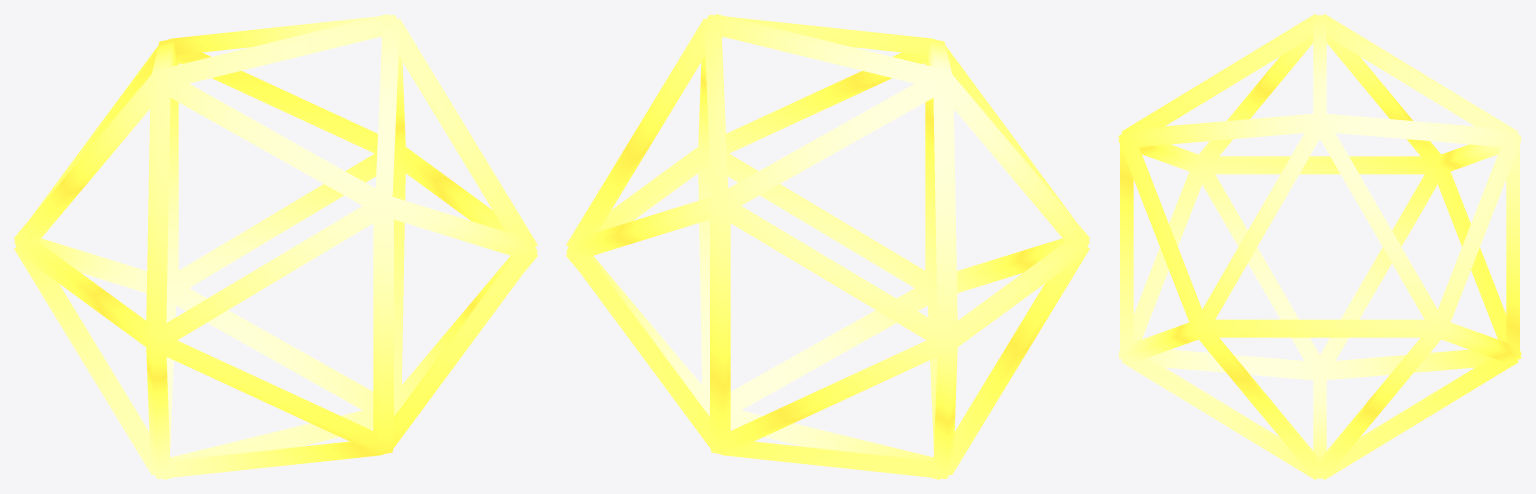
File: d20-wire-gold.glb
3 views of the same model, side by side, from view 1: azimuth 30°, elevation 25°; view 2: azimuth 150°, elevation 25°; view 3: azimuth 270°, elevation 25° (orthographic). The views are drawn at different scales.
Size of the model in its own units: 1.76 by 1.77 by 1.78.
